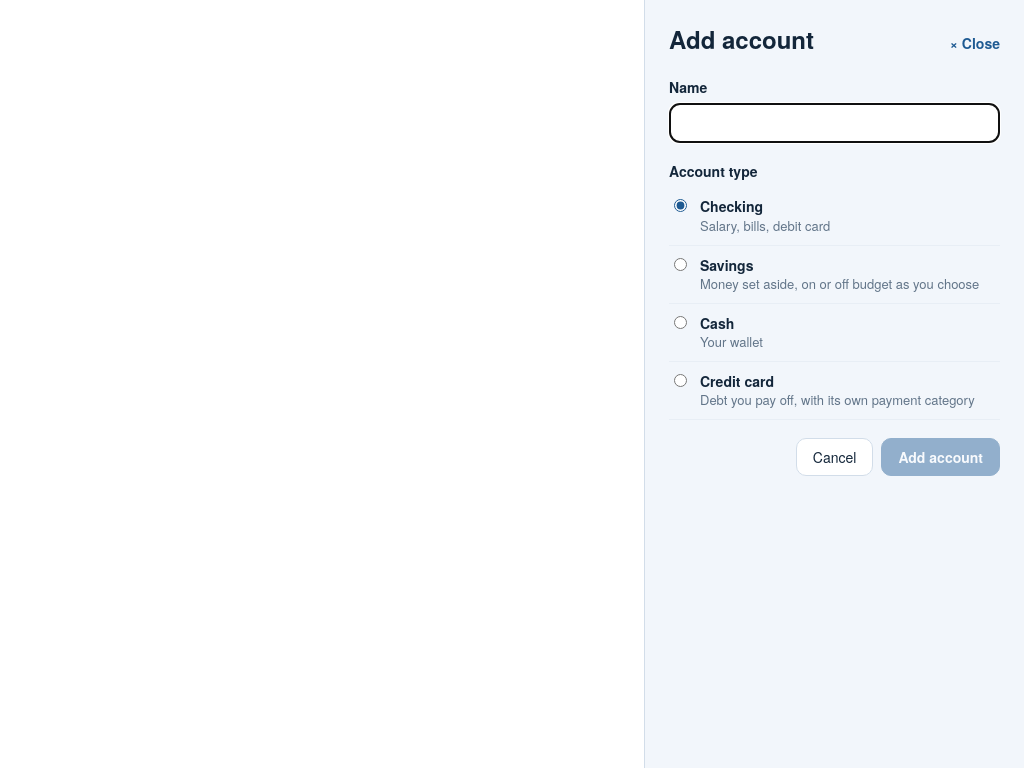
Test: AddAccountForm (#51) › only shows the amount owed once the type is a credit card
Expected: the field labelled "owe on this card" is not shown
Step 1. Click the radio button labelled "Credit card" → x=680, y=380, box [674,374,687,387]
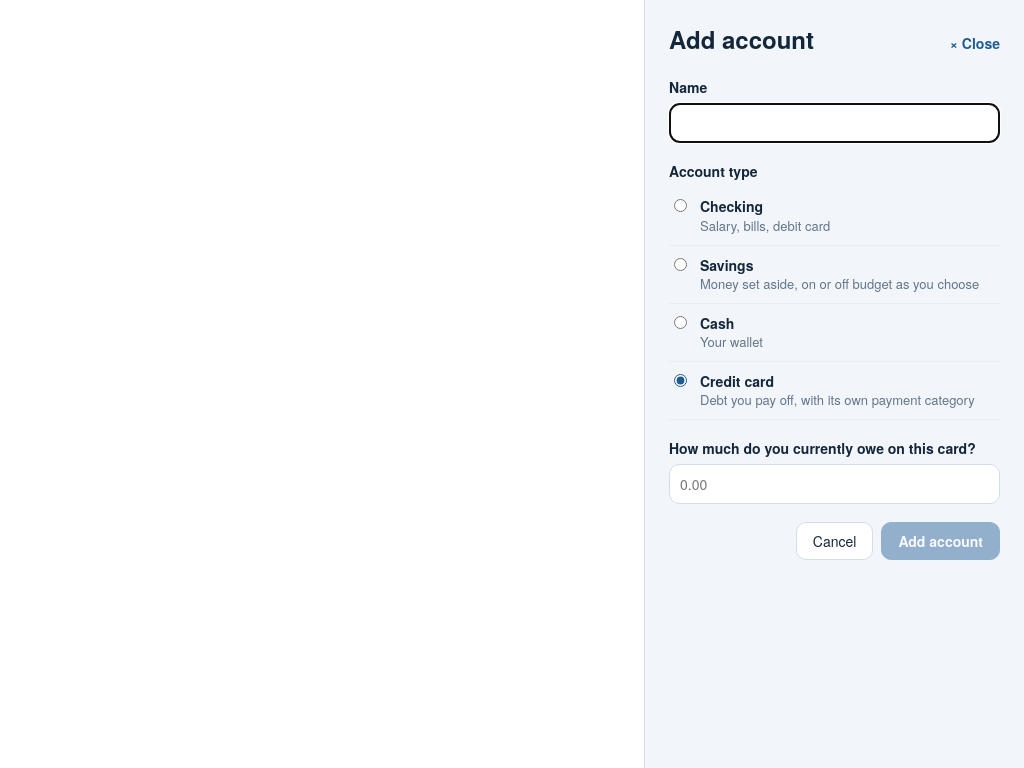
Result: the field labelled "How much do you currently owe on this card?" is shown at [669,464,1000,504]
